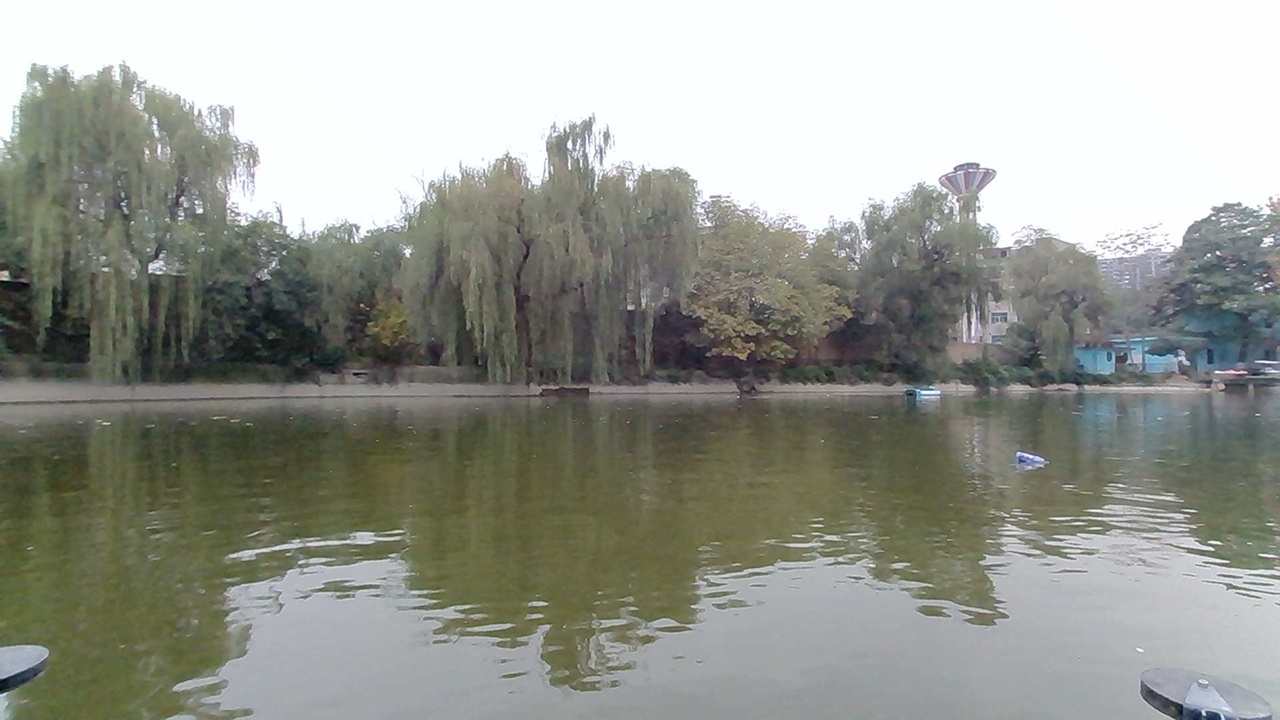bottle: (1003, 445, 1048, 479)
